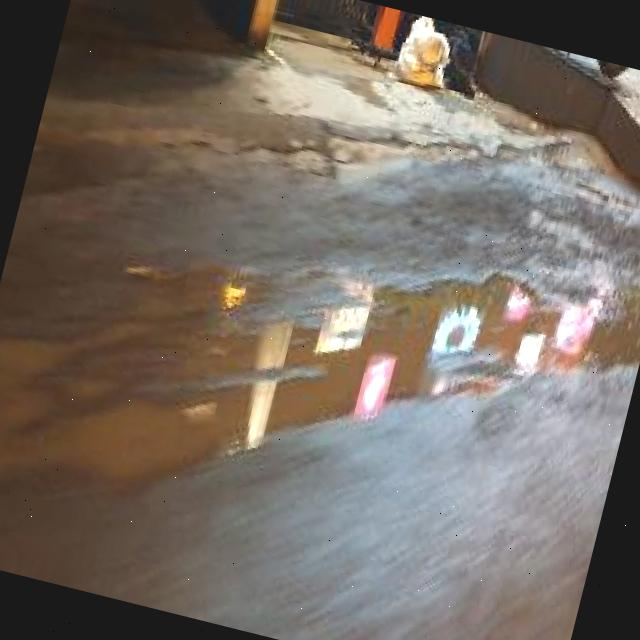waterlogging: (0, 114, 640, 637)
